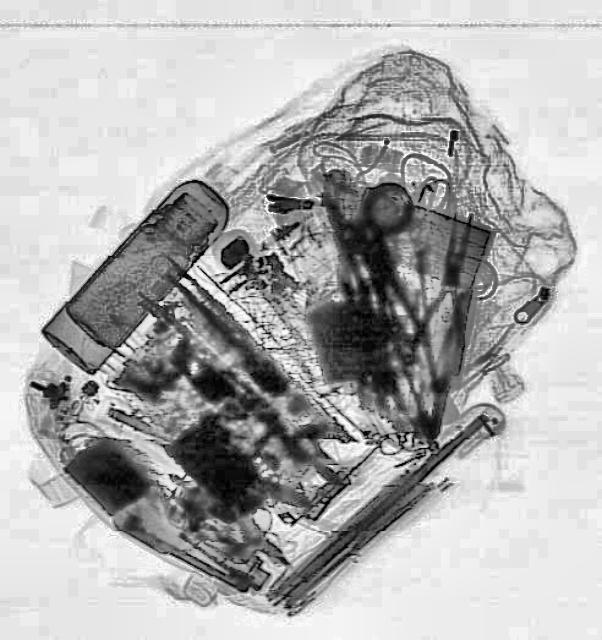Pliers: (405, 206, 491, 368)
